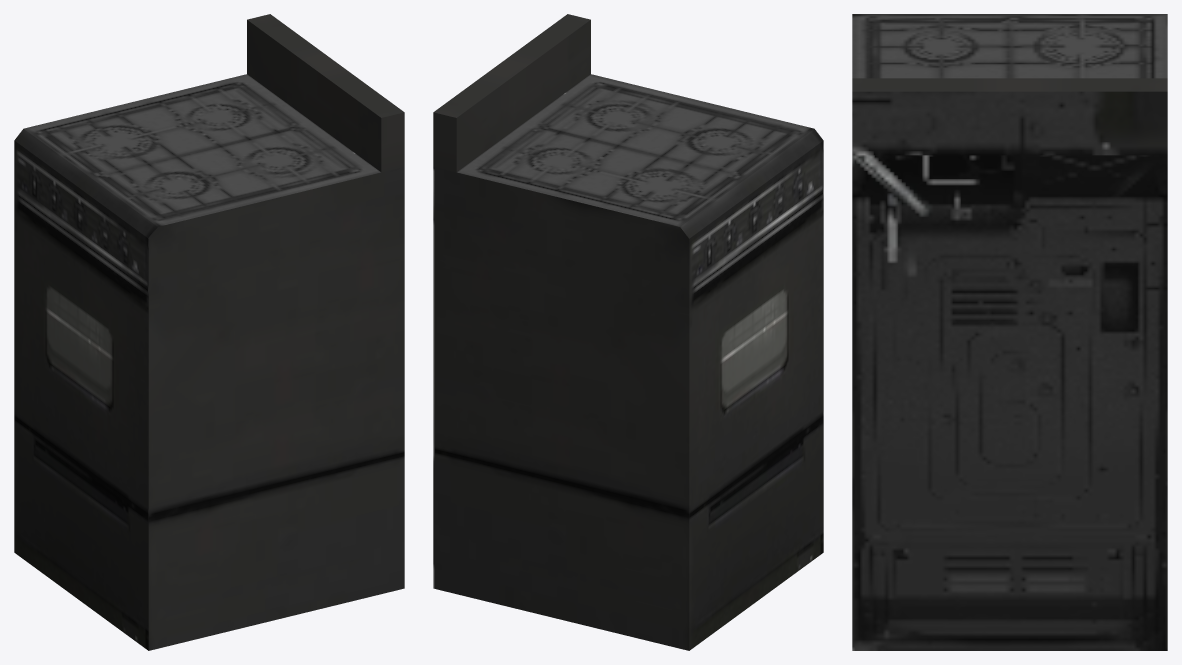
Rendered from stove.glb.
3 views of the same model, side by side, from view 1: azimuth 30°, elevation 25°; view 2: azimuth 150°, elevation 25°; view 3: azimuth 270°, elevation 25° (orthographic). The views are drawn at different scales.
Parts seen in each view (by area): view 1: Stove.001.-col; view 2: Stove.001.-col; view 3: Stove.001.-col.
Boxes of the visible parts, left/top/right/bottom form: Stove.001.-col: left=14, top=14, right=404, bottom=650; Stove.001.-col: left=433, top=14, right=823, bottom=650; Stove.001.-col: left=852, top=14, right=1167, bottom=650.
Size of the model in its own units: 0.6764 by 1.2 by 0.6149.
Materials: 1 (1 with a texture image).
